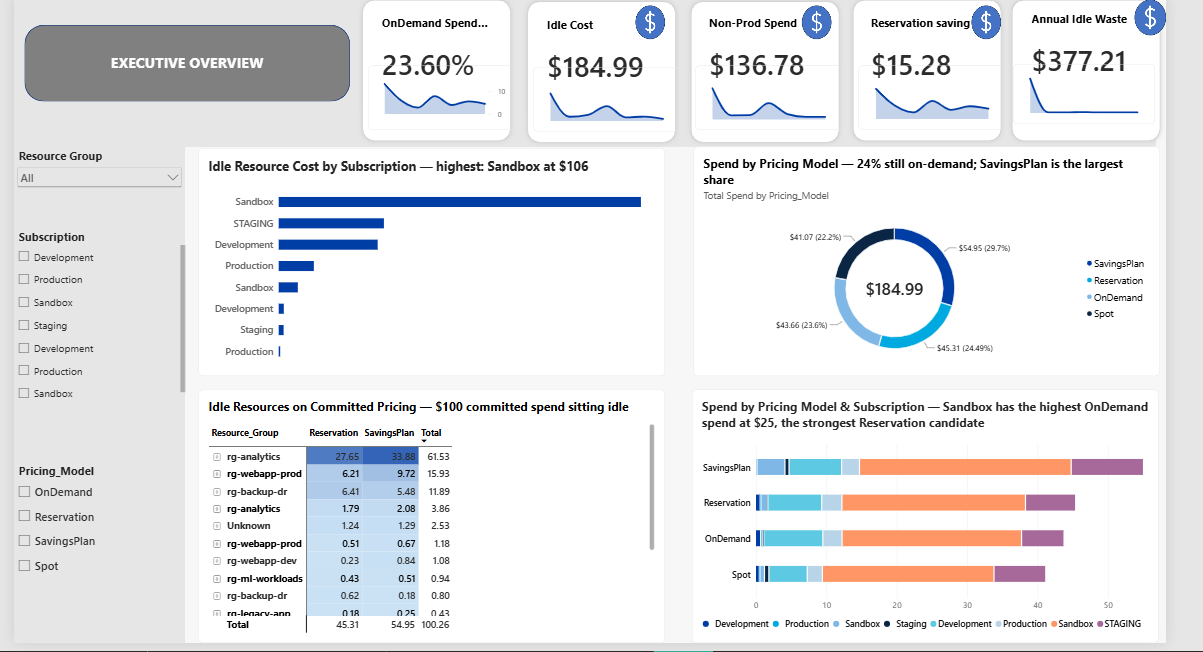

What the dashboard file says about the page in this screenshot:
{"tool":"powerbi","page":{"name":"FINDINGS AND ACTIONS","canvas":[1920,1080],"ordinal":1},"visuals":[{"type":"shape","box":[217.1,0,1685.9,253.7],"z":0},{"type":"shape","box":[1389.1,0.8,263.5,251.3],"z":1000},{"type":"shape","box":[848,1.4,263.5,251.3],"z":2000},{"type":"cardVisual","fields":{"Data":["public azure_billing.Idle Resource Cost"]},"box":[873.2,20.1,212.3,146.4],"z":3000},{"type":"areaChart","fields":{"Category":["public azure_billing.Usage_Date.Variation.Date Hierarchy.Month"],"Y":["public azure_billing.Idle Resource Cost"]},"box":[865.9,120.1,246.4,107.4],"z":4000},{"type":"shape","box":[1118.8,2.2,263.5,251.3],"z":5000},{"type":"cardVisual","fields":{"Data":["public azure_billing.Non-Prod Spend"]},"box":[1143.5,17.9,212.3,146.4],"z":6000},{"type":"areaChart","fields":{"Category":["public azure_billing.Usage_Date.Variation.Date Hierarchy.Month"],"Y":["public azure_billing.Non-Prod Spend"]},"box":[1136.2,117.9,246.4,107.4],"z":7000},{"type":"cardVisual","fields":{"Data":["public azure_billing.Estimated Reservation Savings"]},"box":[1413.7,16.5,212.3,146.4],"z":8000},{"type":"areaChart","fields":{"Category":["public azure_billing.Usage_Date.Variation.Date Hierarchy.Month"],"Y":["public azure_billing.Estimated Reservation Savings"]},"box":[1406.4,116.5,246.4,107.4],"z":9000},{"type":"shape","box":[1655.5,-1.1,263.5,251.3],"z":10000},{"type":"cardVisual","fields":{"Data":["public azure_billing.Annualized Idle Waste"]},"box":[1680.7,9.5,212.3,146.4],"z":11000},{"type":"areaChart","fields":{"Category":["public azure_billing.Usage_Date.Variation.Date Hierarchy.Month"],"Y":["public azure_billing.Annualized Idle Waste"]},"box":[1666,114.4,236.7,100],"z":12000},{"type":"shape","box":[0,2.5,285,1077.5],"z":13000},{"type":"barChart","fields":{"Category":["public azure_billing.Subscription_Name"],"Y":["public azure_billing.Idle Resource Cost"]},"box":[307.5,255,777.5,380],"z":14000},{"type":"donutChart","fields":{"Category":["public azure_billing.Pricing_Model"],"Y":["public azure_billing.Total Spend"]},"box":[1132.5,252.5,777.5,382.5],"z":15000},{"type":"barChart","fields":{"Category":["public azure_billing.Pricing_Model"],"Series":["public azure_billing.Subscription_Name"],"Y":["public azure_billing.Total Spend"]},"box":[1130,657.5,777.5,422.5],"z":16000},{"type":"shape","box":[571.4,-0.3,263.5,251.3],"z":17000},{"type":"cardVisual","fields":{"Data":["public azure_billing.OnDemand Spend %"]},"box":[596.6,18.4,212.3,146.4],"z":18000},{"type":"areaChart","fields":{"Category":["public azure_billing.Usage_Date.Variation.Date Hierarchy.Month"],"Y2":["public azure_billing.OnDemand Spend"]},"box":[589.3,118.5,246.4,107.4],"z":19000},{"type":"pivotTable","fields":{"Columns":["public azure_billing.Pricing_Model"],"Rows":["public azure_billing.Resource_Group","public azure_billing.Service_Name"],"Values":["public azure_billing.Idle Resource Cost"]},"box":[307.5,657.5,777.5,422.5],"z":20000},{"type":"slicer","fields":{"Values":["public azure_billing.Resource_Group"]},"box":[0,255,285,77.5],"z":21000},{"type":"slicer","fields":{"Values":["public azure_billing.Subscription_Name"]},"box":[0,390,285,300],"z":22000},{"type":"slicer","fields":{"Values":["public azure_billing.Pricing_Model"]},"box":[0,780,285,300],"z":23000},{"type":"shape","box":[18.3,50.8,542.5,127.5],"z":24000},{"type":"actionButton","box":[38.3,50.8,502.5,125],"z":25000},{"type":"image","box":[1015,17.5,90.3,56.1],"z":25001},{"type":"image","box":[1292.5,17.5,90.3,56.1],"z":25002},{"type":"image","box":[1575,17.5,90.3,56.1],"z":25003},{"type":"image","box":[1867.5,2.5,52.5,70],"z":25004}]}

Visuals, with their boxes on the page's 1920x1080 design canvas (x1, y1, x2, y2). These are canvas units, not pixel positions in the 1203x652 screenshot, which may show the page scaled, cropped or inside an application window:
shape: locate(217, 0, 1903, 254)
shape: locate(1389, 1, 1653, 252)
shape: locate(848, 1, 1112, 253)
cardVisual - public azure_billing.Idle Resource Cost: locate(873, 20, 1086, 166)
areaChart - public azure_billing.Usage_Date.Variation.Date Hierarchy.Month x public azure_billing.Idle Resource Cost: locate(866, 120, 1112, 228)
shape: locate(1119, 2, 1382, 254)
cardVisual - public azure_billing.Non-Prod Spend: locate(1144, 18, 1356, 164)
areaChart - public azure_billing.Usage_Date.Variation.Date Hierarchy.Month x public azure_billing.Non-Prod Spend: locate(1136, 118, 1383, 225)
cardVisual - public azure_billing.Estimated Reservation Savings: locate(1414, 16, 1626, 163)
areaChart - public azure_billing.Usage_Date.Variation.Date Hierarchy.Month x public azure_billing.Estimated Reservation Savings: locate(1406, 116, 1653, 224)
shape: locate(1656, -1, 1919, 250)
cardVisual - public azure_billing.Annualized Idle Waste: locate(1681, 10, 1893, 156)
areaChart - public azure_billing.Usage_Date.Variation.Date Hierarchy.Month x public azure_billing.Annualized Idle Waste: locate(1666, 114, 1903, 214)
shape: locate(0, 2, 285, 1080)
barChart - public azure_billing.Subscription_Name x public azure_billing.Idle Resource Cost: locate(308, 255, 1085, 635)
donutChart - public azure_billing.Pricing_Model x public azure_billing.Total Spend: locate(1132, 252, 1910, 635)
barChart - public azure_billing.Pricing_Model x public azure_billing.Subscription_Name: locate(1130, 658, 1908, 1080)
shape: locate(571, 0, 835, 251)
cardVisual - public azure_billing.OnDemand Spend %: locate(597, 18, 809, 165)
areaChart - public azure_billing.Usage_Date.Variation.Date Hierarchy.Month x public azure_billing.OnDemand Spend: locate(589, 118, 836, 226)
pivotTable - public azure_billing.Pricing_Model x public azure_billing.Resource_Group: locate(308, 658, 1085, 1080)
slicer - public azure_billing.Resource_Group: locate(0, 255, 285, 332)
slicer - public azure_billing.Subscription_Name: locate(0, 390, 285, 690)
slicer - public azure_billing.Pricing_Model: locate(0, 780, 285, 1080)
shape: locate(18, 51, 561, 178)
actionButton: locate(38, 51, 541, 176)
image: locate(1015, 18, 1105, 74)
image: locate(1292, 18, 1383, 74)
image: locate(1575, 18, 1665, 74)
image: locate(1868, 2, 1920, 72)
